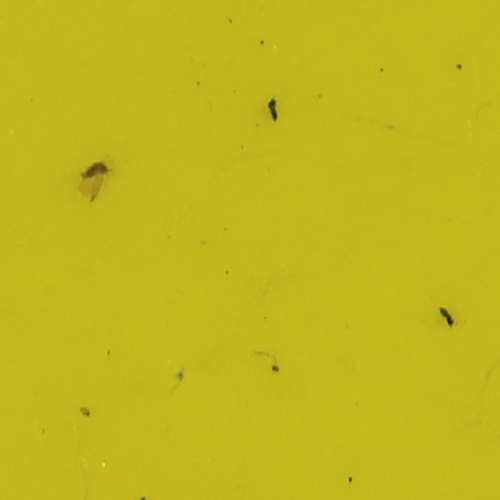Platyobria: (80, 161, 109, 180)
